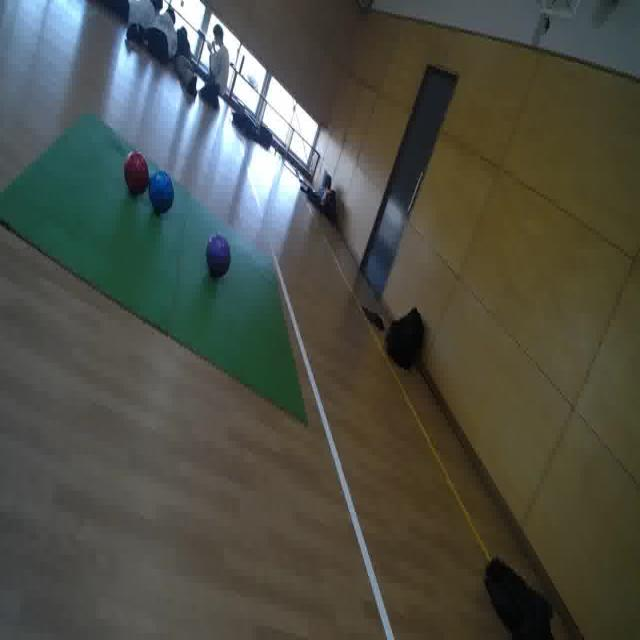blue_ball: (148, 169, 174, 219)
purple_ball: (205, 230, 232, 280)
red_ball: (122, 150, 151, 199)
